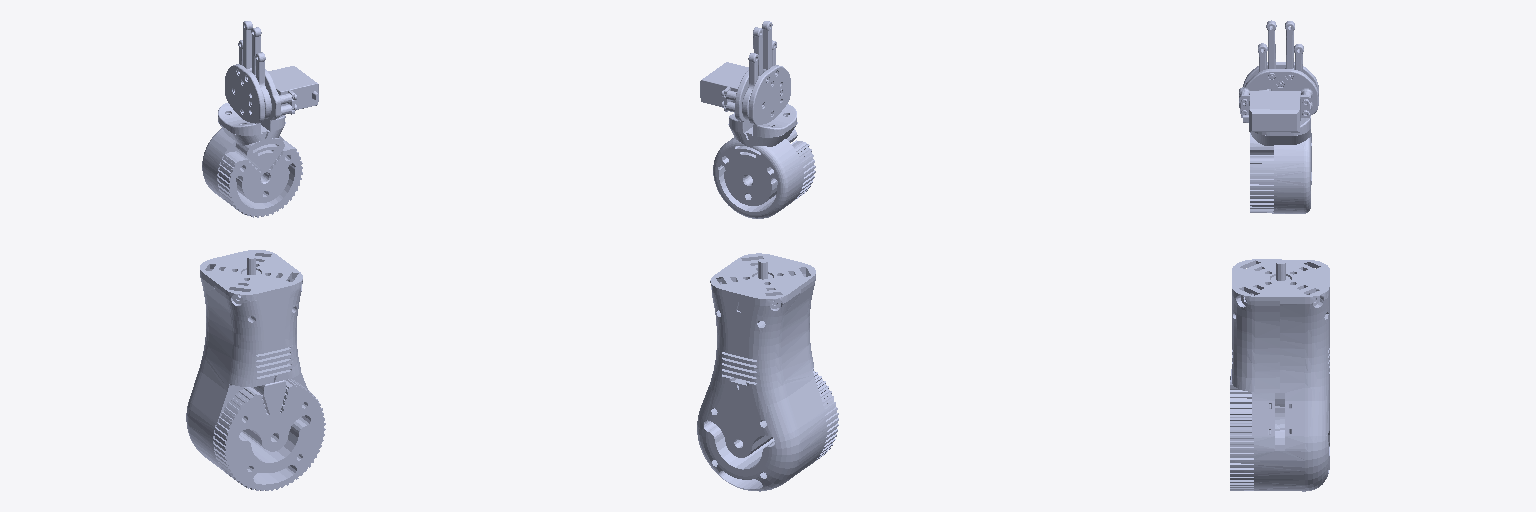
The robot description file, URDF, robot "urdfv5":
<?xml version="1.0" encoding="utf-8"?>
<!-- This URDF was automatically created by SolidWorks to URDF Exporter! Originally created by [author] ([email redacted]) 
     Commit Version: 1.6.0-4-g7f85cfe  Build Version: 1.6.7995.38578
     For more information, please see http://wiki.ros.org/sw_urdf_exporter -->
<robot
  name="urdfv5">
  <link
    name="base_link">
    <inertial>
      <origin
        xyz="-0.0435393633147197 1.22538169029518E-05 0.0288009133501952"
        rpy="0 0 0" />
      <mass
        value="1.80445503924572" />
      <inertia
        ixx="0.00557261131322256"
        ixy="1.30566290520113E-06"
        ixz="-0.0005394752363291"
        iyy="0.0133501948737187"
        iyz="4.5057300847886E-07"
        izz="0.0165394809238565" />
    </inertial>
    <visual>
      <origin
        xyz="0 0 0"
        rpy="0 0 0" />
      <geometry>
        <mesh
          filename="package://urdfv5/meshes/base_link.STL" />
      </geometry>
      <material
        name="">
        <color
          rgba="0.792156862745098 0.819607843137255 0.933333333333333 1" />
      </material>
    </visual>
    <collision>
      <origin
        xyz="0 0 0"
        rpy="0 0 0" />
      <geometry>
        <mesh
          filename="package://urdfv5/meshes/base_link.STL" />
      </geometry>
    </collision>
  </link>
  <link
    name="base">
    <inertial>
      <origin
        xyz="-3.642206133736E-05 -0.0118679007139265 0.0827015228083971"
        rpy="0 0 0" />
      <mass
        value="2.09089475872426" />
      <inertia
        ixx="0.0136133851140564"
        ixy="4.81729455017446E-06"
        ixz="-8.59098005598292E-06"
        iyy="0.00966544956416382"
        iyz="-0.000408881345999402"
        izz="0.00889732541662392" />
    </inertial>
    <visual>
      <origin
        xyz="0 0 0"
        rpy="0 0 0" />
      <geometry>
        <mesh
          filename="package://urdfv5/meshes/base.STL" />
      </geometry>
      <material
        name="">
        <color
          rgba="0.792156862745098 0.819607843137255 0.933333333333333 1" />
      </material>
    </visual>
    <collision>
      <origin
        xyz="0 0 0"
        rpy="0 0 0" />
      <geometry>
        <mesh
          filename="package://urdfv5/meshes/base.STL" />
      </geometry>
    </collision>
  </link>
  <joint
    name="joint_1"
    type="continuous">
    <origin
      xyz="0 0 0.0805626889741612"
      rpy="0 0 -0.0137749399473416" />
    <parent
      link="base_link" />
    <child
      link="base" />
    <axis
      xyz="0 0 1" />
  </joint>
  <link
    name="shoulder">
    <inertial>
      <origin
        xyz="0.000114821633251605 0.00164617005672685 0.079941299505606"
        rpy="0 0 0" />
      <mass
        value="1.9311302244136" />
      <inertia
        ixx="0.0170861143600446"
        ixy="3.41444124886214E-06"
        ixz="-5.13579918498232E-07"
        iyy="0.0162696160792994"
        iyz="-0.000123088013545127"
        izz="0.00359987375721594" />
    </inertial>
    <visual>
      <origin
        xyz="0 0 0"
        rpy="0 0 0" />
      <geometry>
        <mesh
          filename="package://urdfv5/meshes/shoulder.STL" />
      </geometry>
      <material
        name="">
        <color
          rgba="0.792156862745098 0.819607843137255 0.933333333333333 1" />
      </material>
    </visual>
    <collision>
      <origin
        xyz="0 0 0"
        rpy="0 0 0" />
      <geometry>
        <mesh
          filename="package://urdfv5/meshes/shoulder.STL" />
      </geometry>
    </collision>
  </link>
  <joint
    name="joint_2"
    type="continuous">
    <origin
      xyz="0 0 0.166937311025839"
      rpy="0 -0.0401786148125149 0" />
    <parent
      link="base" />
    <child
      link="shoulder" />
    <axis
      xyz="0 1 0" />
  </joint>
  <link
    name="elbow">
    <inertial>
      <origin
        xyz="-7.46045453986488E-05 -0.000200828897961525 0.0430510848285705"
        rpy="0 0 0" />
      <mass
        value="0.777952518165522" />
      <inertia
        ixx="0.00228138046770406"
        ixy="6.74965200477039E-08"
        ixz="-6.02495655393824E-07"
        iyy="0.00230093015725966"
        iyz="-3.06257161230913E-05"
        izz="0.000730693959243023" />
    </inertial>
    <visual>
      <origin
        xyz="0 0 0"
        rpy="0 0 0" />
      <geometry>
        <mesh
          filename="package://urdfv5/meshes/elbow.STL" />
      </geometry>
      <material
        name="">
        <color
          rgba="0.792156862745098 0.819607843137255 0.933333333333333 1" />
      </material>
    </visual>
    <collision>
      <origin
        xyz="0 0 0"
        rpy="0 0 0" />
      <geometry>
        <mesh
          filename="package://urdfv5/meshes/elbow.STL" />
      </geometry>
    </collision>
  </link>
  <joint
    name="joint_3"
    type="continuous">
    <origin
      xyz="0 0 0.221123792803564"
      rpy="0 0.0401786148125149 0" />
    <parent
      link="shoulder" />
    <child
      link="elbow" />
    <axis
      xyz="0 1 0" />
  </joint>
  <link
    name="wrist_1">
    <inertial>
      <origin
        xyz="0.000153325816812655 0.0025437716284466 0.0552077428933772"
        rpy="0 0 0" />
      <mass
        value="0.336033431090024" />
      <inertia
        ixx="0.00069858897414835"
        ixy="-1.06885826113012E-06"
        ixz="4.79930621864448E-06"
        iyy="0.000573509858053779"
        iyz="1.12101684178498E-05"
        izz="0.000348806651356732" />
    </inertial>
    <visual>
      <origin
        xyz="0 0 0"
        rpy="0 0 0" />
      <geometry>
        <mesh
          filename="package://urdfv5/meshes/wrist_1.STL" />
      </geometry>
      <material
        name="">
        <color
          rgba="0.792156862745098 0.819607843137255 0.933333333333333 1" />
      </material>
    </visual>
    <collision>
      <origin
        xyz="0 0 0"
        rpy="0 0 0" />
      <geometry>
        <mesh
          filename="package://urdfv5/meshes/wrist_1.STL" />
      </geometry>
    </collision>
  </link>
  <joint
    name="joint_4"
    type="continuous">
    <origin
      xyz="0 0.000500999999999752 0.129539254362443"
      rpy="0 0 0" />
    <parent
      link="elbow" />
    <child
      link="wrist_1" />
    <axis
      xyz="0 0 1" />
  </joint>
  <link
    name="wrist_2">
    <inertial>
      <origin
        xyz="1.77688284443978E-05 0.000385812686423792 0.00382819956222746"
        rpy="0 0 0" />
      <mass
        value="0.158623990907744" />
      <inertia
        ixx="8.93595780141302E-05"
        ixy="-2.61043353678291E-09"
        ixz="-6.69999126984601E-08"
        iyy="0.000106318526071324"
        iyz="-6.1988141359002E-07"
        izz="7.50977321539318E-05" />
    </inertial>
    <visual>
      <origin
        xyz="0 0 0"
        rpy="0 0 0" />
      <geometry>
        <mesh
          filename="package://urdfv5/meshes/wrist_2.STL" />
      </geometry>
      <material
        name="">
        <color
          rgba="0.792156862745098 0.819607843137255 0.933333333333333 1" />
      </material>
    </visual>
    <collision>
      <origin
        xyz="0 0 0"
        rpy="0 0 0" />
      <geometry>
        <mesh
          filename="package://urdfv5/meshes/wrist_2.STL" />
      </geometry>
    </collision>
  </link>
  <joint
    name="joint_5"
    type="continuous">
    <origin
      xyz="0 0 0.098960745637557"
      rpy="0 0 0" />
    <parent
      link="wrist_1" />
    <child
      link="wrist_2" />
    <axis
      xyz="0 1 0" />
  </joint>
  <link
    name="gripper_base">
    <inertial>
      <origin
        xyz="0.0143867707676764 -0.00449126467228944 0.734040602378814"
        rpy="0 0 0" />
      <mass
        value="0.0669550612665462" />
      <inertia
        ixx="2.24885103666953E-05"
        ixy="2.35779531665101E-06"
        ixz="-2.87441655039097E-06"
        iyy="3.18452563755661E-05"
        iyz="3.57683862208844E-07"
        izz="3.67649414256568E-05" />
    </inertial>
    <visual>
      <origin
        xyz="0 0 0"
        rpy="0 0 0" />
      <geometry>
        <mesh
          filename="package://urdfv5/meshes/gripper_base.STL" />
      </geometry>
      <material
        name="">
        <color
          rgba="0.792156862745098 0.819607843137255 0.933333333333333 1" />
      </material>
    </visual>
    <collision>
      <origin
        xyz="0 0 0"
        rpy="0 0 0" />
      <geometry>
        <mesh
          filename="package://urdfv5/meshes/gripper_base.STL" />
      </geometry>
    </collision>
  </link>
  <joint
    name="joint_6"
    type="fixed">
    <origin
      xyz="0.00101787720548718 0.0025808298232558 -0.67198995308091"
      rpy="0 0 0" />
    <parent
      link="wrist_2" />
    <child
      link="gripper_base" />
    <axis
      xyz="0 0 0" />
  </joint>
  <link
    name="gripper_link_gear1">
    <inertial>
      <origin
        xyz="-0.00297505714593504 -0.000951058332112287 0.00793987065824242"
        rpy="0 0 0" />
      <mass
        value="0.0043827321176342" />
      <inertia
        ixx="9.89267955956112E-07"
        ixy="-2.40994167790054E-09"
        ixz="-4.25781888054711E-09"
        iyy="8.26887819478162E-07"
        iyz="-3.67425672143889E-08"
        izz="1.88326002162975E-07" />
    </inertial>
    <visual>
      <origin
        xyz="0 0 0"
        rpy="0 0 0" />
      <geometry>
        <mesh
          filename="package://urdfv5/meshes/gripper_link_gear1.STL" />
      </geometry>
      <material
        name="">
        <color
          rgba="0.792156862745098 0.819607843137255 0.933333333333333 1" />
      </material>
    </visual>
    <collision>
      <origin
        xyz="0 0 0"
        rpy="0 0 0" />
      <geometry>
        <mesh
          filename="package://urdfv5/meshes/gripper_link_gear1.STL" />
      </geometry>
    </collision>
  </link>
  <joint
    name="joint_7"
    type="continuous">
    <origin
      xyz="0.0022853 -0.016581 0.73698"
      rpy="0 0 0.013775" />
    <parent
      link="gripper_base" />
    <child
      link="gripper_link_gear1" />
    <axis
      xyz="0.99989 -0.013774 -0.0046829" />
  </joint>
  <link
    name="gripper_link_gear2">
    <inertial>
      <origin
        xyz="0.00299446841718953 -0.00793429080604857 -0.000936572435455252"
        rpy="0 0 0" />
      <mass
        value="0.00438273213416302" />
      <inertia
        ixx="9.89317570900061E-07"
        ixy="1.98696293022724E-10"
        ixz="-7.64266699711604E-10"
        iyy="1.89001473415262E-07"
        iyz="4.23806388608005E-08"
        izz="8.2616283422686E-07" />
    </inertial>
    <visual>
      <origin
        xyz="0 0 0"
        rpy="0 0 0" />
      <geometry>
        <mesh
          filename="package://urdfv5/meshes/gripper_link_gear2.STL" />
      </geometry>
      <material
        name="">
        <color
          rgba="0.792156862745098 0.819607843137255 0.933333333333333 1" />
      </material>
    </visual>
    <collision>
      <origin
        xyz="0 0 0"
        rpy="0 0 0" />
      <geometry>
        <mesh
          filename="package://urdfv5/meshes/gripper_link_gear2.STL" />
      </geometry>
    </collision>
  </link>
  <joint
    name="joint_8"
    type="continuous">
    <origin
      xyz="0.0022853 0.011419 0.73698"
      rpy="-1.5621 -0.0047239 -3.1369" />
    <parent
      link="gripper_base" />
    <child
      link="gripper_link_gear2" />
    <axis
      xyz="0.99999 0 -0.0046829" />
    <mimic
      joint=""
      multiplier="-1"
      offset="1.57" />
  </joint>
  <link
    name="gripper_arm1">
    <inertial>
      <origin
        xyz="-0.0030138820723864 -0.0200002768409102 1.41270823689754E-05"
        rpy="0 0 0" />
      <mass
        value="0.00163735500294603" />
      <inertia
        ixx="3.04623057395779E-07"
        ixy="3.1959275327615E-14"
        ixz="-4.21698270677683E-12"
        iyy="1.02986323316765E-08"
        iyz="4.46309318162813E-13"
        izz="3.03722580975889E-07" />
    </inertial>
    <visual>
      <origin
        xyz="0 0 0"
        rpy="0 0 0" />
      <geometry>
        <mesh
          filename="package://urdfv5/meshes/gripper_arm1.STL" />
      </geometry>
      <material
        name="">
        <color
          rgba="0.792156862745098 0.819607843137255 0.933333333333333 1" />
      </material>
    </visual>
    <collision>
      <origin
        xyz="0 0 0"
        rpy="0 0 0" />
      <geometry>
        <mesh
          filename="package://urdfv5/meshes/gripper_arm1.STL" />
      </geometry>
    </collision>
  </link>
  <joint
    name="joint_9"
    type="continuous">
    <origin
      xyz="0.002394 -0.0095808 0.75697"
      rpy="-1.562 0.0046418 0.0046828" />
    <parent
      link="gripper_base" />
    <child
      link="gripper_arm1" />
    <axis
      xyz="0.99999 0 -0.0046829" />
    <mimic
      joint="joint_7"
      multiplier="1"
      offset="0" />
  </joint>
  <link
    name="gripper_arm2">
    <inertial>
      <origin
        xyz="-0.00305619055725292 0.0200000108825259 1.43009533843941E-05"
        rpy="0 0 0" />
      <mass
        value="0.00163735500294604" />
      <inertia
        ixx="3.0462305739579E-07"
        ixy="-2.77675152125617E-14"
        ixz="-4.21698270674388E-12"
        iyy="1.02986323316827E-08"
        iyz="4.48804886261591E-13"
        izz="3.03722580975893E-07" />
    </inertial>
    <visual>
      <origin
        xyz="0 0 0"
        rpy="0 0 0" />
      <geometry>
        <mesh
          filename="package://urdfv5/meshes/gripper_arm2.STL" />
      </geometry>
      <material
        name="">
        <color
          rgba="0.792156862745098 0.819607843137255 0.933333333333333 1" />
      </material>
    </visual>
    <collision>
      <origin
        xyz="0 0 0"
        rpy="0 0 0" />
      <geometry>
        <mesh
          filename="package://urdfv5/meshes/gripper_arm2.STL" />
      </geometry>
    </collision>
  </link>
  <joint
    name="joint_10"
    type="continuous">
    <origin
      xyz="0.0024363 0.0044192 0.75697"
      rpy="1.562 0.0046419 -0.0046828" />
    <parent
      link="gripper_base" />
    <child
      link="gripper_arm2" />
    <axis
      xyz="0.99999 0 -0.0046829" />
    <mimic
      joint="joint_9"
      multiplier="-1"
      offset="0" />
  </joint>
</robot>

--- Facts derived from the render (not from the file) ---
3 views of the same robot in one strip: view 1: azimuth 30°, elevation 25°; view 2: azimuth 150°, elevation 25°; view 3: azimuth 270°, elevation 25° (orthographic).
Robot: urdfv5 — 11 links, 10 joints (9 continuous, 1 fixed); root link base_link; default pose: all joints at 0.
Visible links, largest first — view 1: elbow, wrist_2, gripper_base; view 2: elbow, wrist_2, gripper_base; view 3: elbow, wrist_2, gripper_base.
Link boxes in pixels (x1,y1,x2,y2): elbow: [186, 250, 325, 490]; wrist_2: [202, 122, 302, 217]; gripper_base: [218, 64, 318, 135]; elbow: [697, 253, 838, 491]; wrist_2: [713, 122, 815, 218]; gripper_base: [700, 62, 796, 137]; elbow: [1230, 259, 1329, 491]; wrist_2: [1250, 129, 1311, 213]; gripper_base: [1239, 62, 1318, 135].
Bounding box of the posed robot: 0.0994 × 0.0795 × 0.405 m (x, y, z).
Meshes: 11 distinct files referenced, 7 mesh visuals loaded (7 binary STL); not drawn: 4 (reference not matched to a file when rendering).